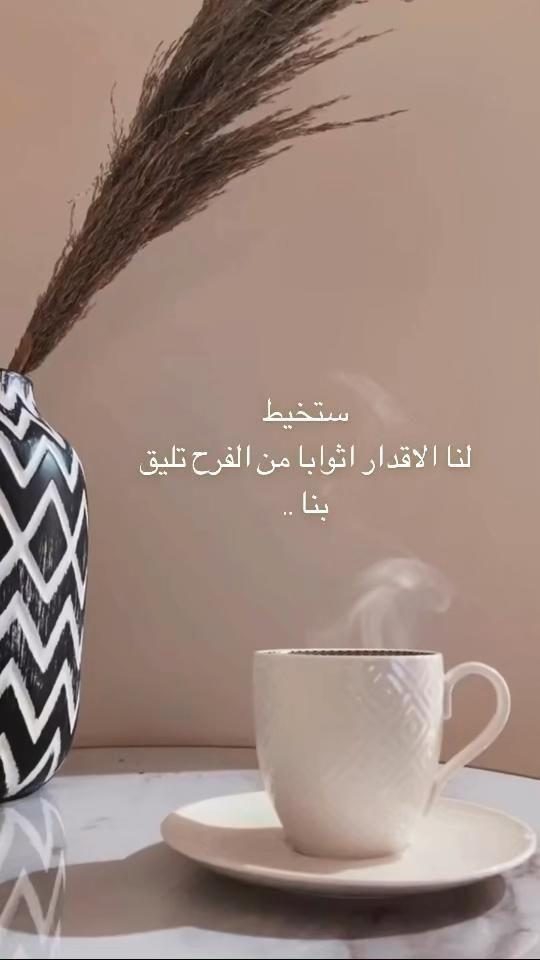cup-handle: (247, 645, 511, 862)
